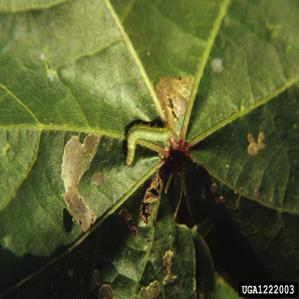Beet armyworm: (116, 104, 189, 178)
